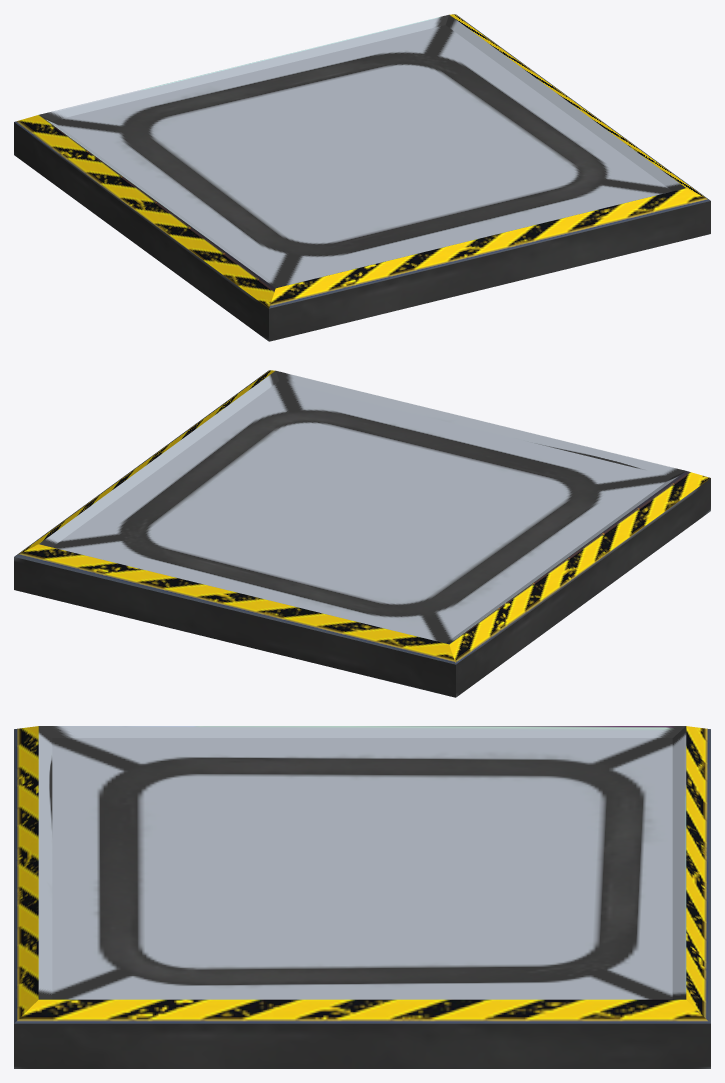
The model's file is ConcretePanel.fbx.
The picture shows the model from 3 angles, top to bottom: view 1: azimuth 30°, elevation 25°; view 2: azimuth 150°, elevation 25°; view 3: azimuth 270°, elevation 25°; orthographic projection. The views are drawn at different scales.
Parts seen in each view (by area): view 1: Panel; view 2: Panel; view 3: Panel.
Part boxes in pixels (x1,y1,x2,y2): Panel: (14, 14, 710, 341); Panel: (14, 370, 710, 697); Panel: (14, 726, 710, 1068).
Bounding box in the file's own units: 200 × 18.61 × 200.
1 material, 1 textured.
